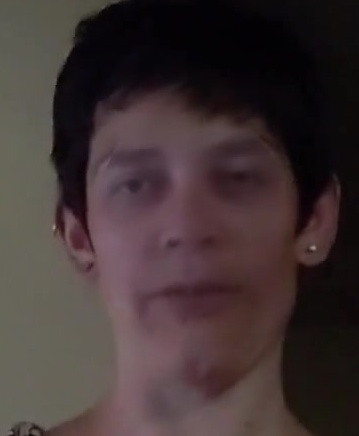eb_f: (91, 123, 299, 215)
